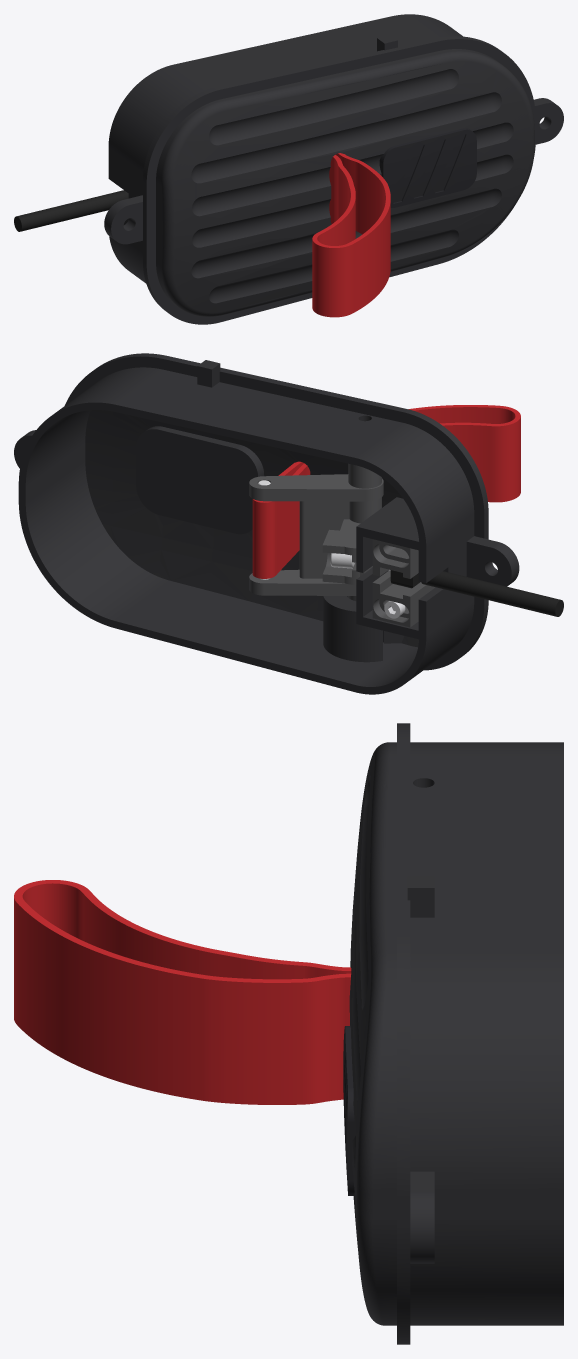
Rendered from door_strap_LH.glb.
The picture shows the model from 3 angles, top to bottom: view 1: azimuth 30°, elevation 25°; view 2: azimuth 150°, elevation 25°; view 3: azimuth 270°, elevation 25°; orthographic projection. The views are drawn at different scales.
Visible parts, largest first — view 1: housing, strap, badge, cable_sheath; view 2: housing, lever, strap, slider, cable_sheath; view 3: housing, strap, badge.
Boxes of the visible parts, x1=… form: housing: x1=104, y1=14, x2=563, y2=324; strap: x1=312, y1=153, x2=390, y2=317; badge: x1=379, y1=128, x2=476, y2=207; cable_sheath: x1=14, y1=190, x2=128, y2=231; housing: x1=14, y1=353, x2=519, y2=694; lever: x1=249, y1=463, x2=383, y2=600; strap: x1=252, y1=405, x2=520, y2=578; slider: x1=372, y1=539, x2=435, y2=627; cable_sheath: x1=390, y1=570, x2=563, y2=616; housing: x1=349, y1=723, x2=563, y2=1344; strap: x1=14, y1=880, x2=351, y2=1104; badge: x1=343, y1=1026, x2=355, y2=1195.
Size of the model in its own units: 0.1955 by 0.0851 by 0.102.
